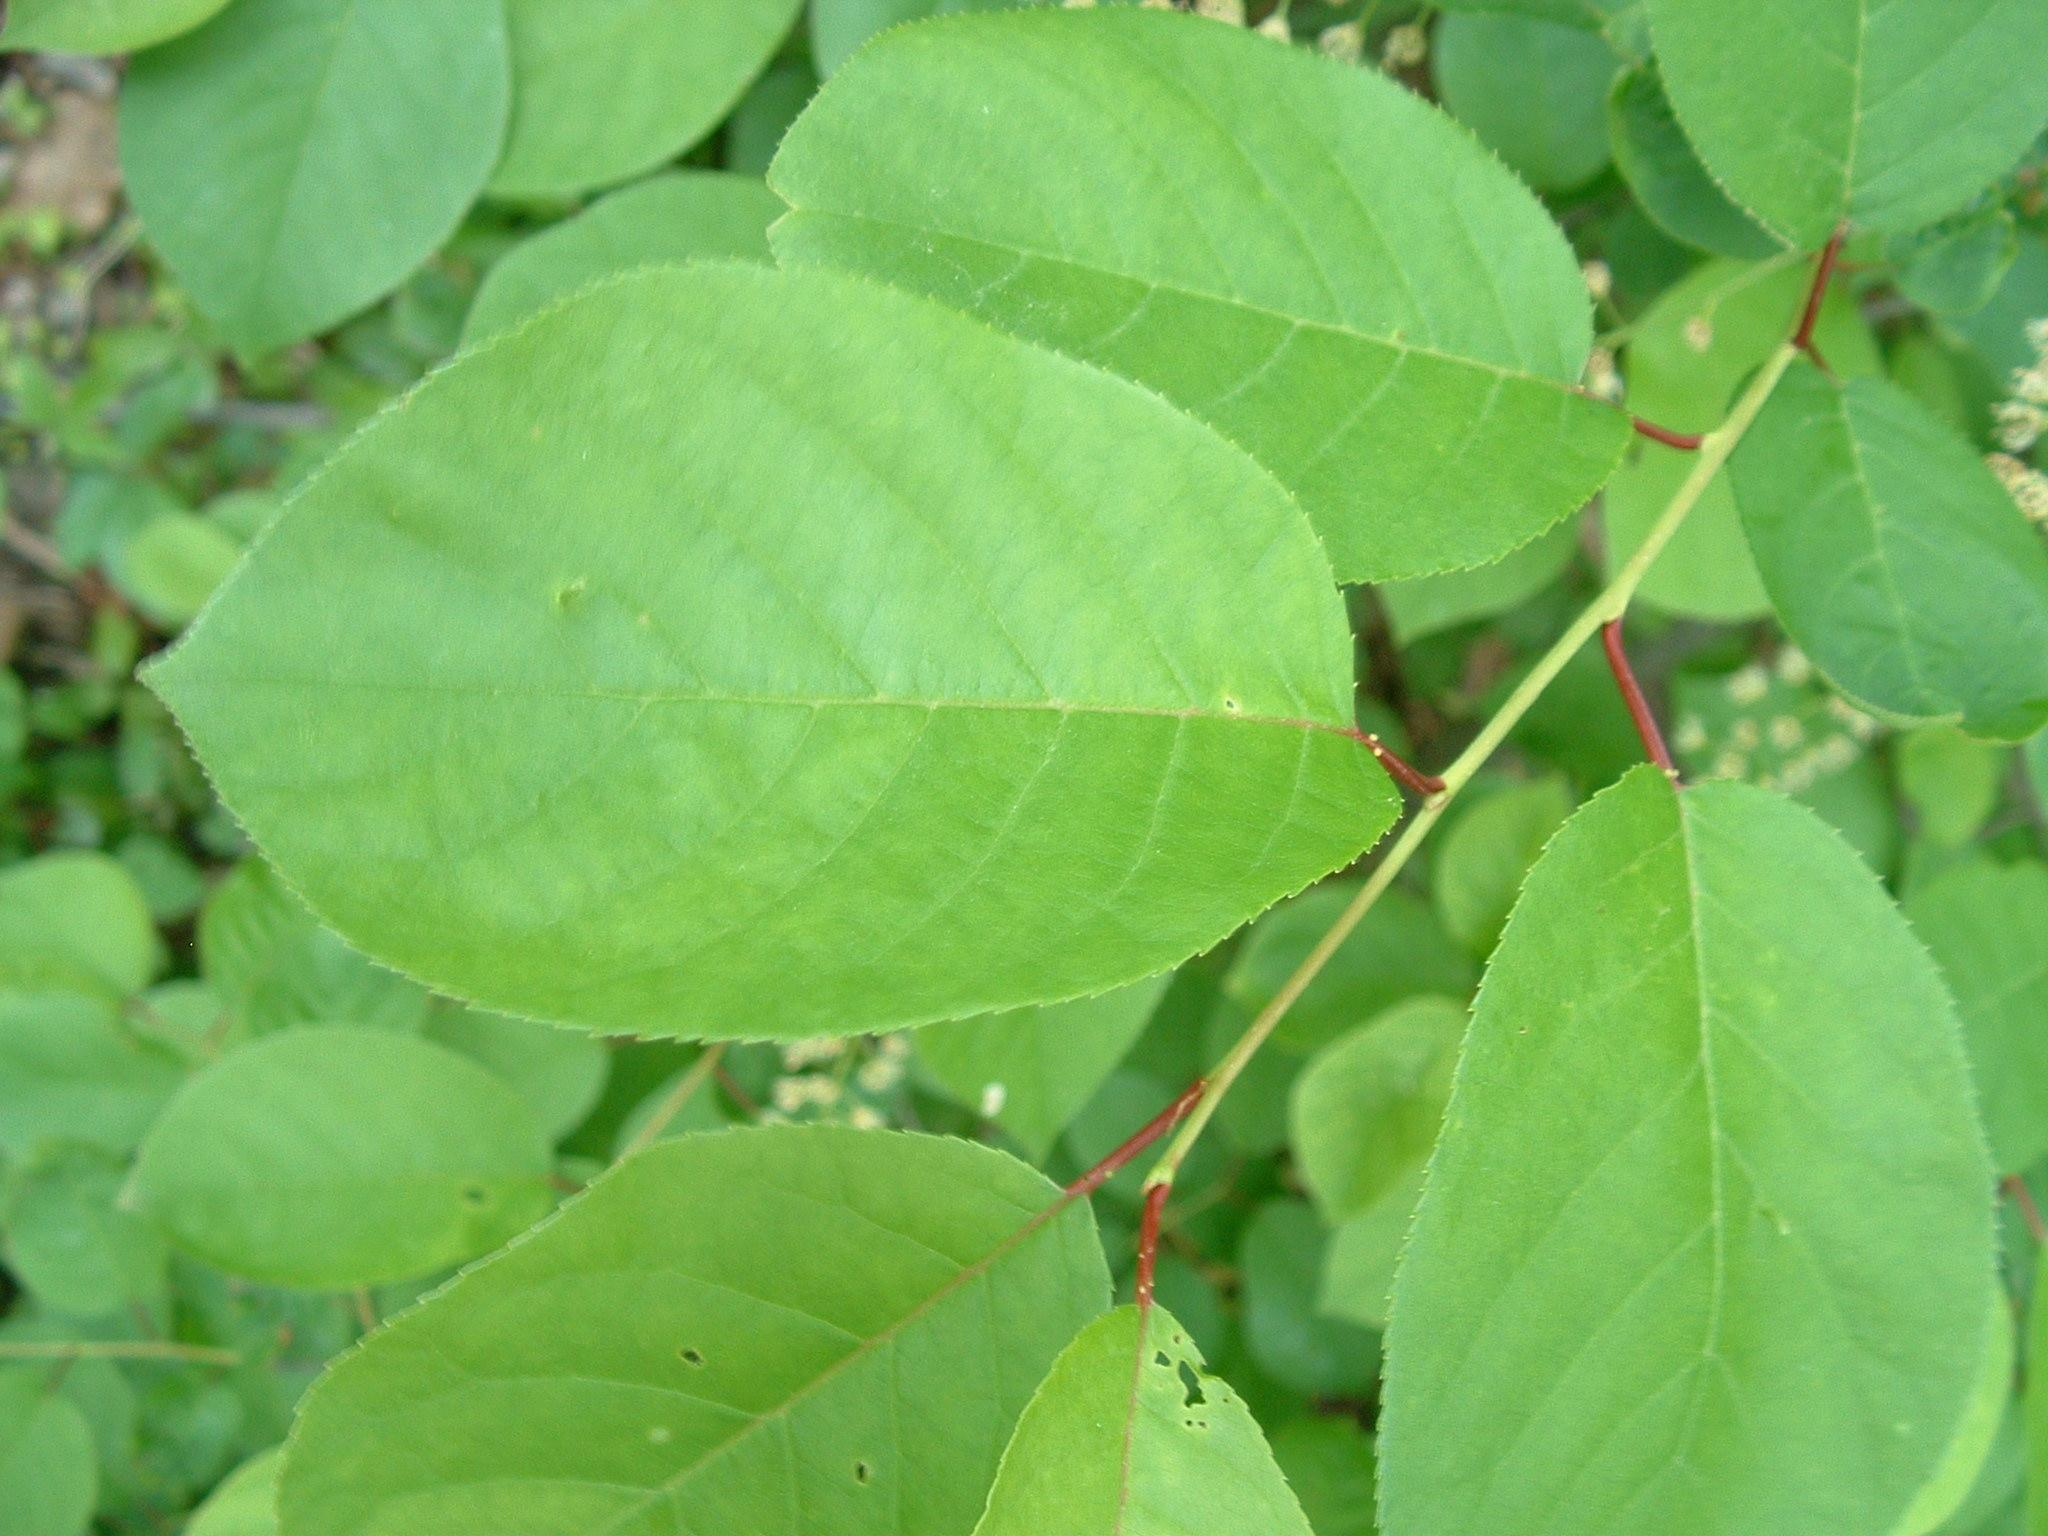Cherry leaf: (98, 273, 1406, 1096), (743, 11, 1680, 603), (1397, 729, 2030, 1536), (244, 1096, 1135, 1536)
